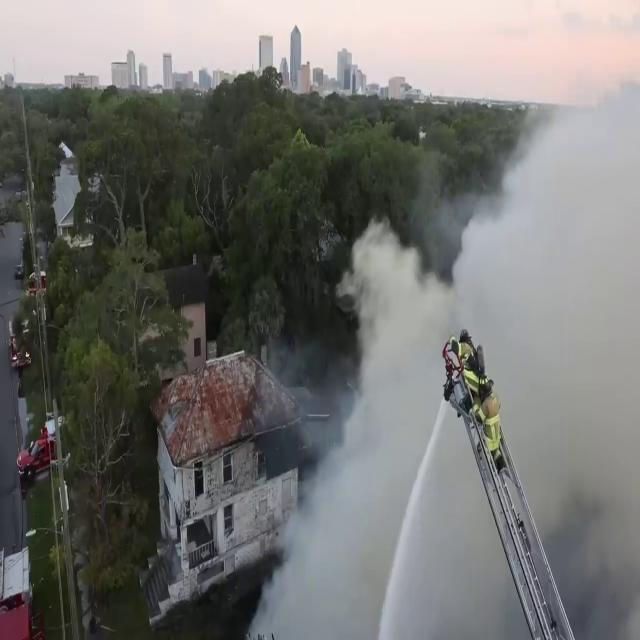Smoke: (281, 323, 470, 640)
